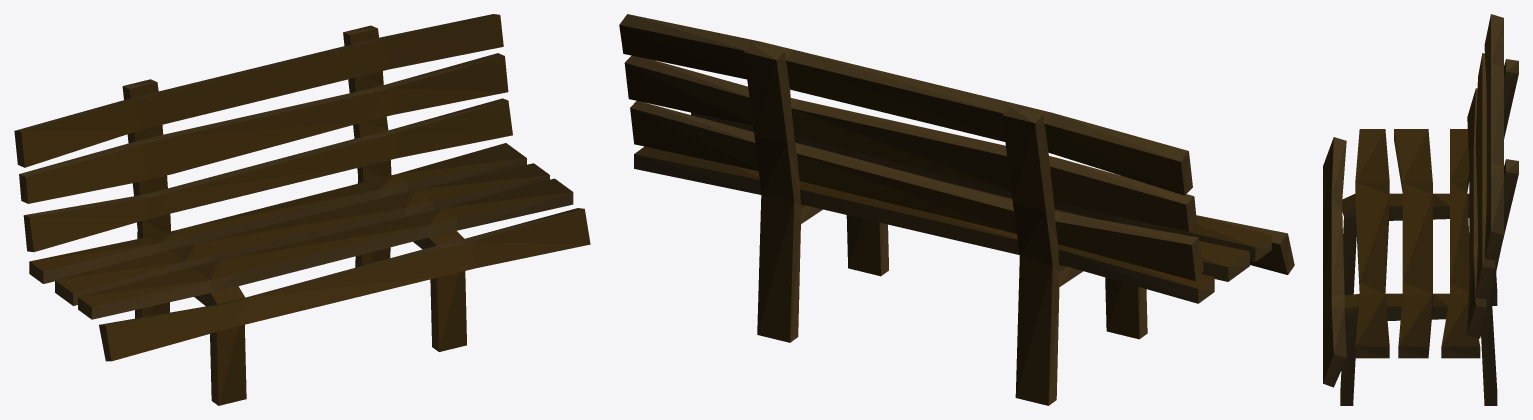
File: bench.obj
3 renders of one model, left to right at view 1: azimuth 30°, elevation 25°; view 2: azimuth 150°, elevation 25°; view 3: azimuth 270°, elevation 25°, orthographic. The views are drawn at different scales.
Parts seen in each view (by area): view 1: Object Bench 2026-10-08_16-43-34; view 2: Object Bench 2026-10-08_16-43-34; view 3: Object Bench 2026-10-08_16-43-34.
Boxes of the visible parts, left/top/right/bottom form: Object Bench 2026-10-08_16-43-34: left=14, top=14, right=590, bottom=405; Object Bench 2026-10-08_16-43-34: left=619, top=14, right=1294, bottom=405; Object Bench 2026-10-08_16-43-34: left=1323, top=14, right=1518, bottom=405.
Size of the model in its own units: 239 by 120 by 91.
